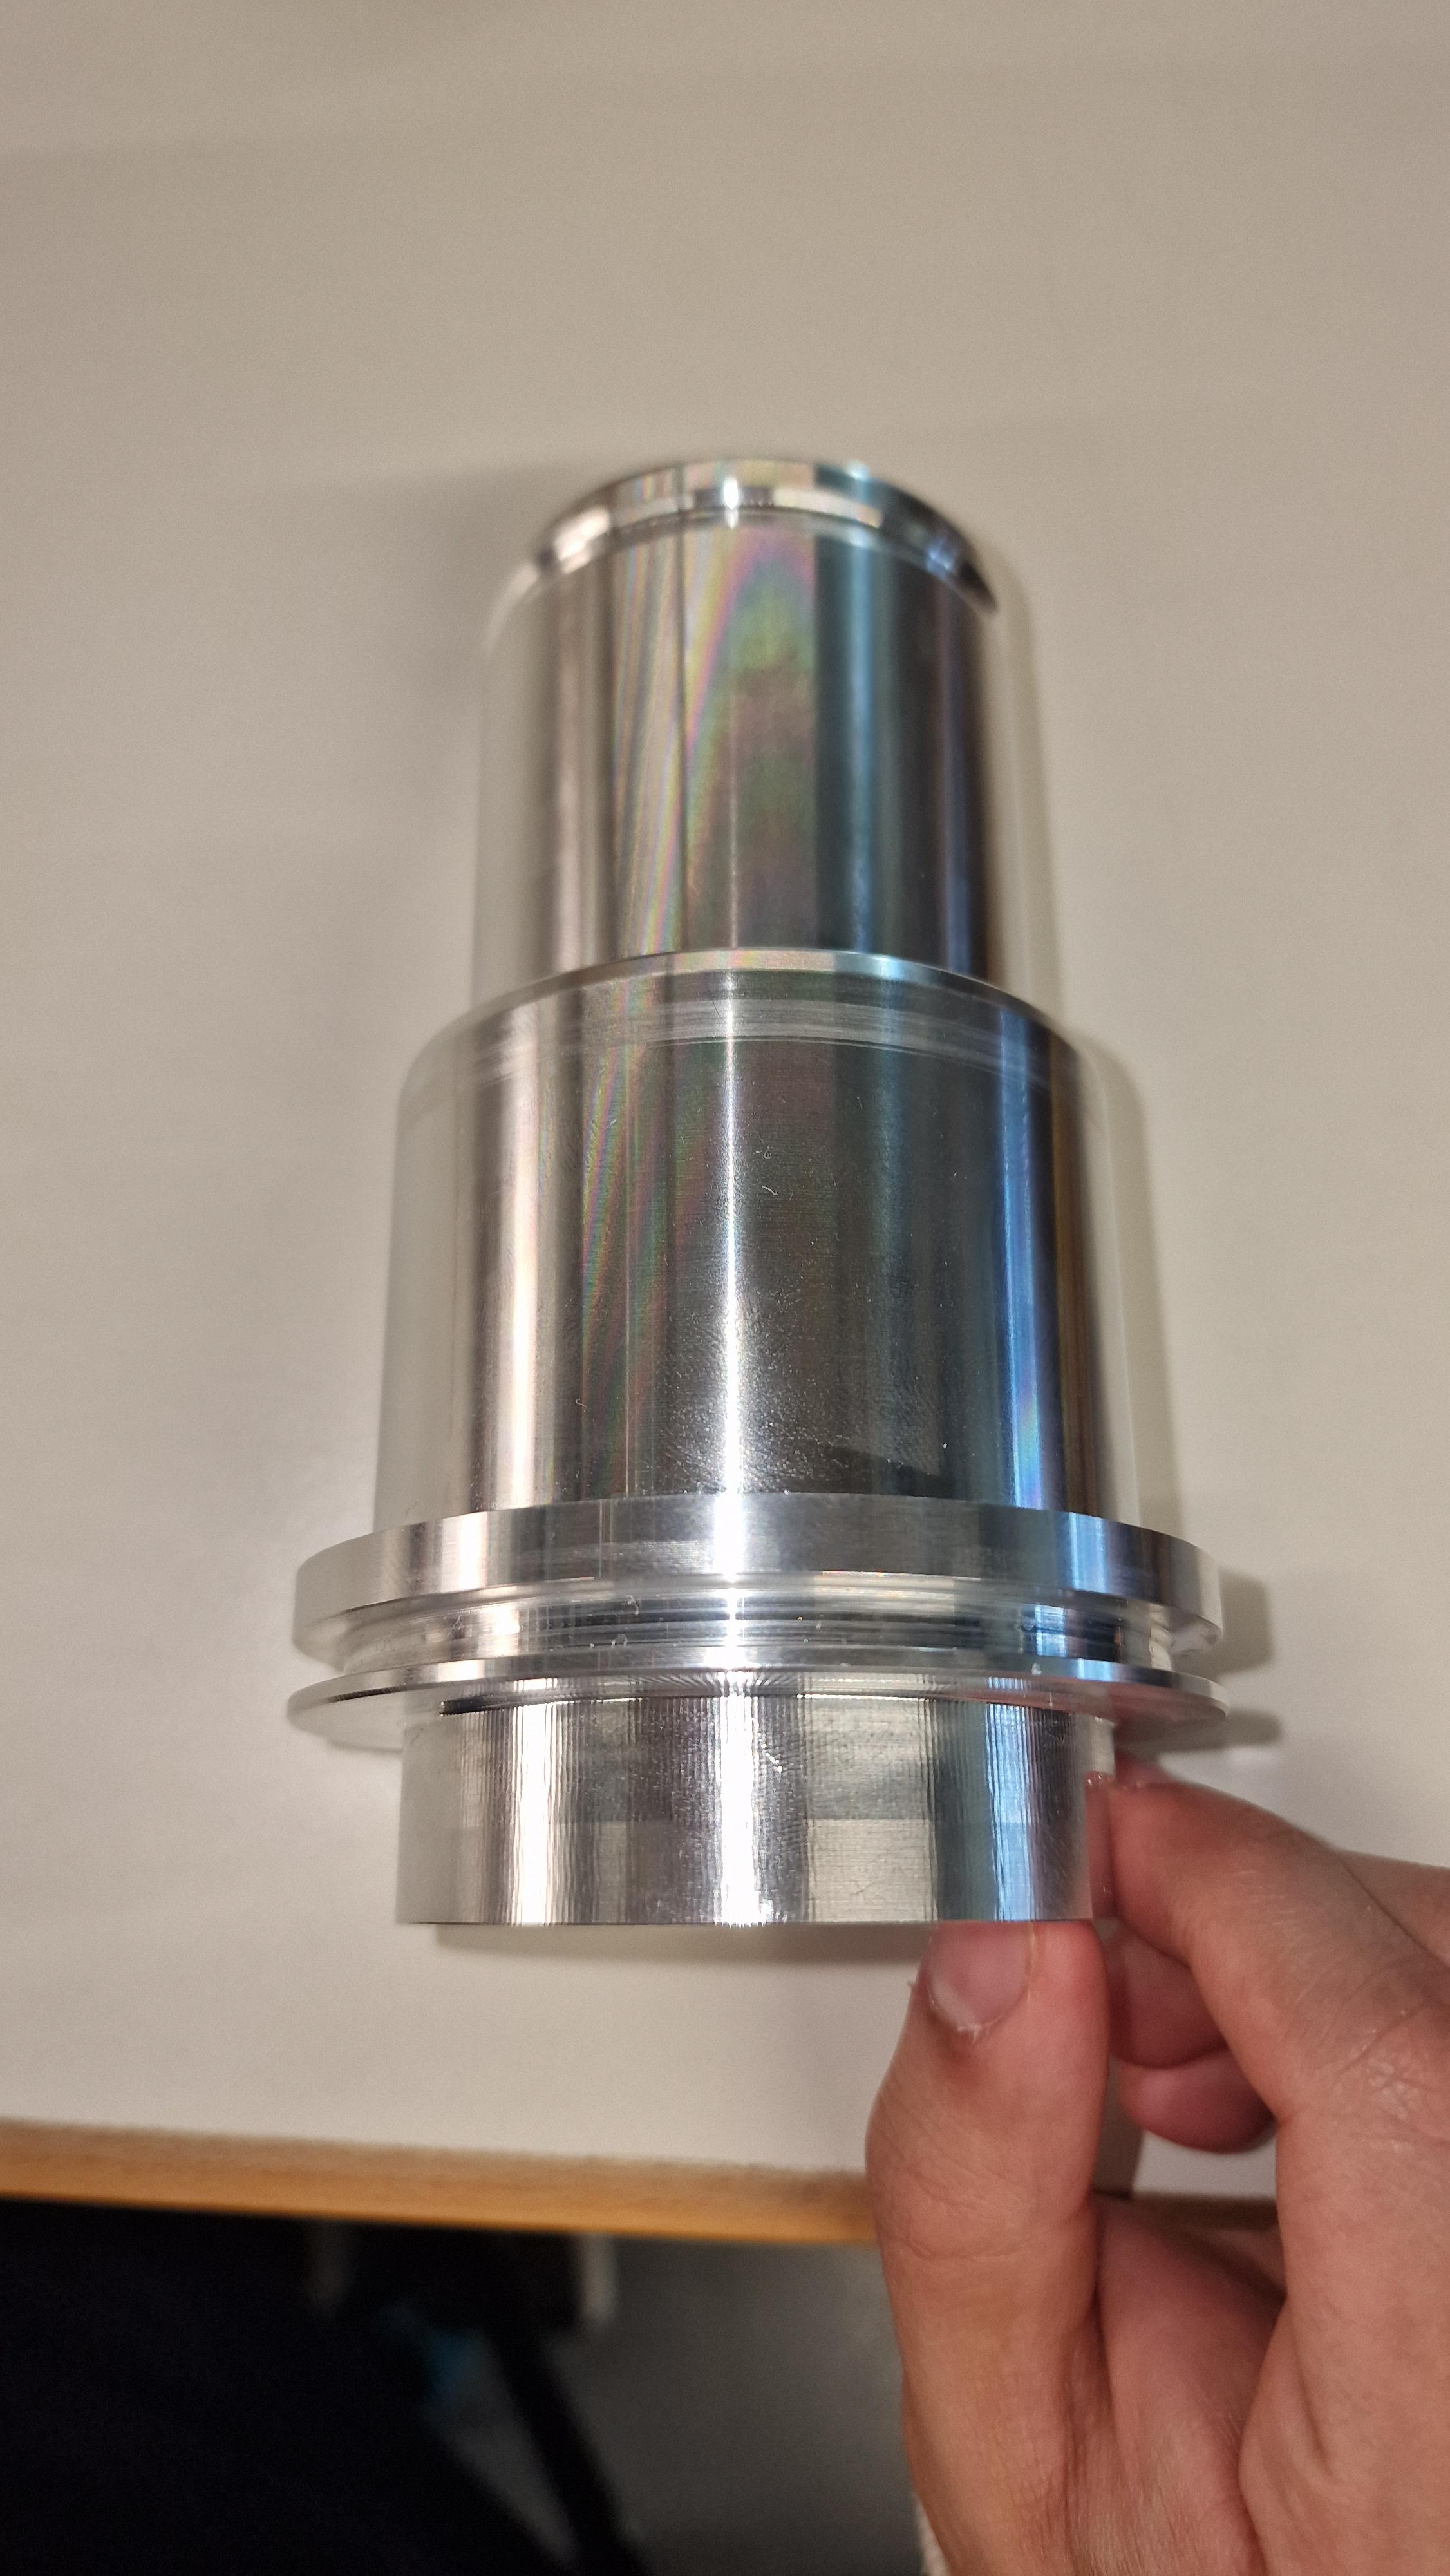objects: (240, 391, 1252, 1967)
